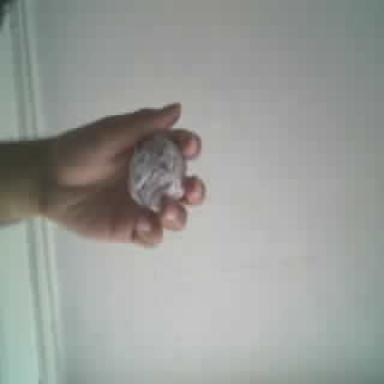paper: (128, 133, 185, 211)
